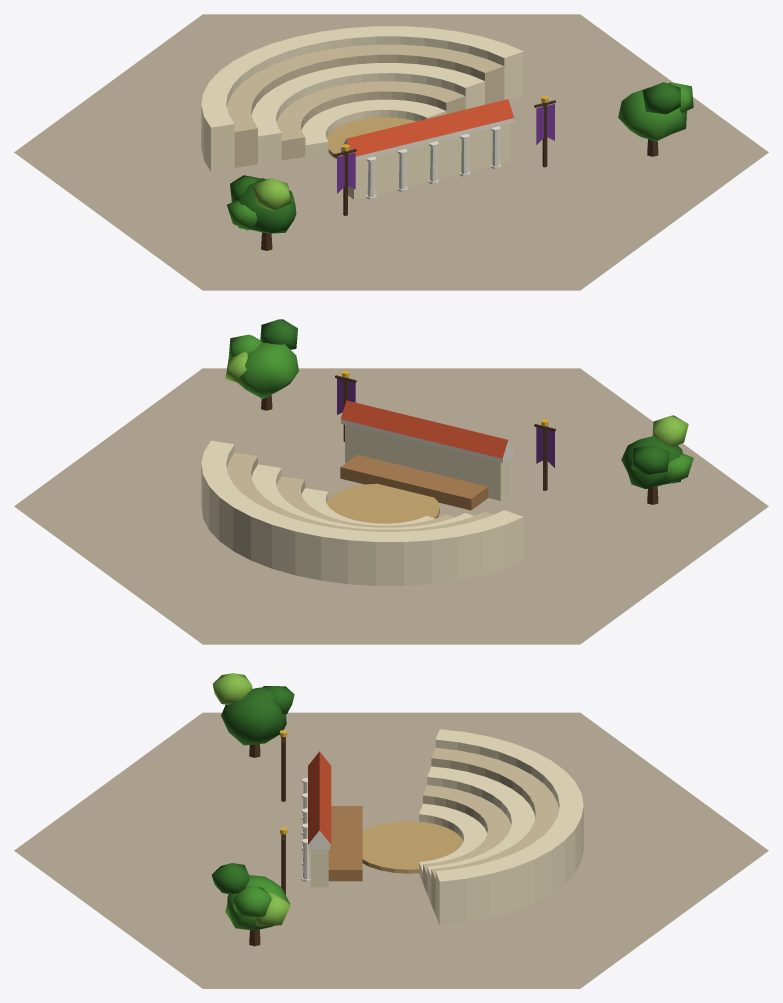
The model's file is district_theater_1.fbx.
3 views of the same model, one above another, from view 1: azimuth 30°, elevation 25°; view 2: azimuth 150°, elevation 25°; view 3: azimuth 270°, elevation 25° (orthographic).
Visible parts, largest first — view 1: district_theater_1; view 2: district_theater_1; view 3: district_theater_1.
Boxes of the visible parts, left/top/right/bottom form: district_theater_1: left=14, top=14, right=768, bottom=290; district_theater_1: left=14, top=319, right=768, bottom=644; district_theater_1: left=14, top=673, right=768, bottom=988.
Size of the model in its own units: 182 by 25.08 by 210.
